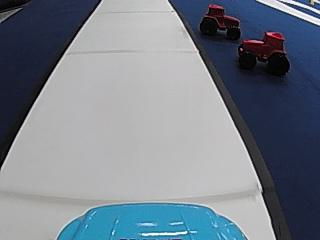Tracktor: (236, 27, 289, 73), (197, 2, 242, 40)
